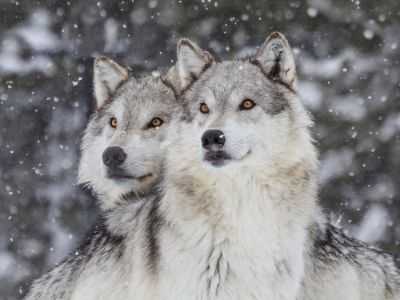wolf: (174, 37, 393, 295), (80, 49, 174, 236)
